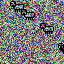sheep: (40, 23, 54, 34), (10, 2, 24, 12), (21, 9, 35, 19), (58, 43, 64, 53)
